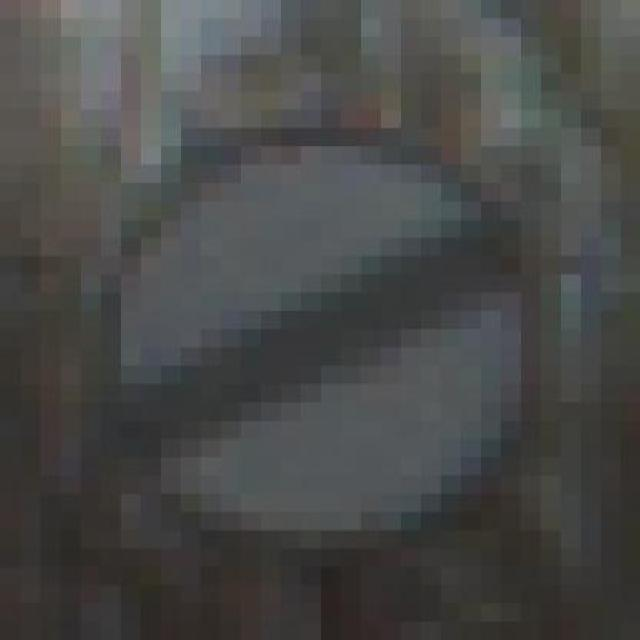End of all speed and passing limits: (80, 91, 560, 567)
